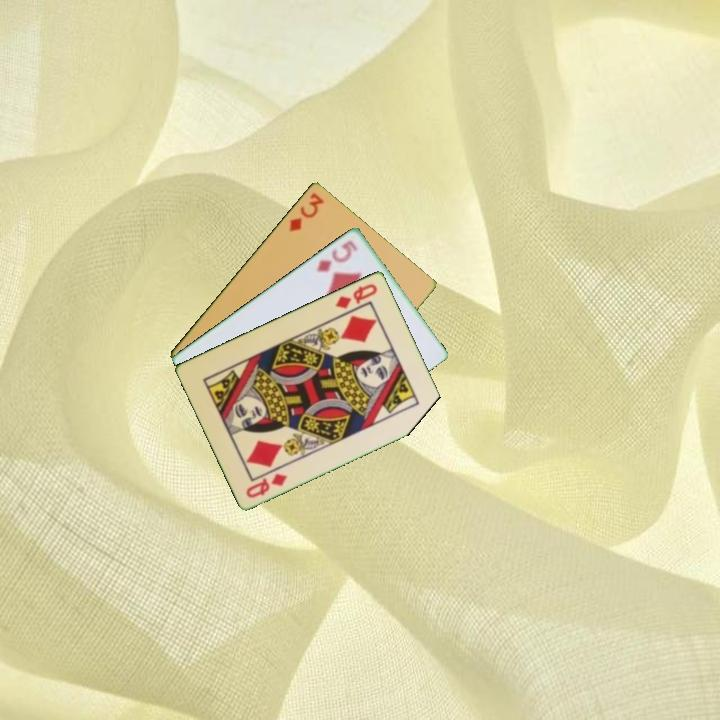3d: (285, 189, 327, 235)
5d: (313, 236, 360, 275)
Qd: (331, 280, 381, 311), (242, 469, 290, 501)
